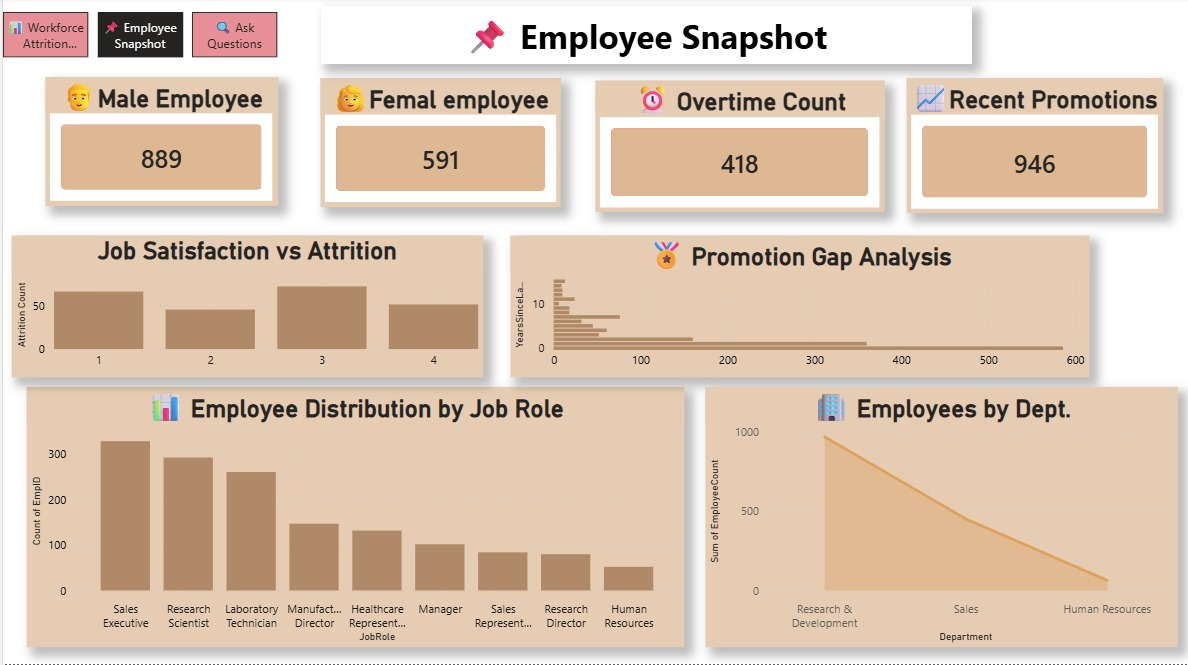

The dashboard page shown, as its layout file describes it:
{"tool":"powerbi","page":{"name":"📌 Employee Snapshot","canvas":[1280,720],"ordinal":1},"visuals":[{"type":"clusteredColumnChart","title":"📊 Employee Distribution by Job Role","fields":{"Y":["CountNonNull(Sheet1.EmpID)"],"Category":["Sheet1.JobRole"]},"box":[25.6,420.9,709.6,280.6],"z":0},{"type":"cardVisual","title":"👨Male Employee","fields":{"Data":["Sheet1.Male Employees"]},"box":[45.9,86.3,250.9,139],"z":1000},{"type":"cardVisual","title":"👩Femal employee","fields":{"Data":["Sheet1.Female Employees"]},"box":[342.7,87.7,259,139],"z":2000},{"type":"cardVisual","title":"⏰ Overtime Count","fields":{"Data":["Sheet1.Overtime Employees1"]},"box":[639.5,90.4,311.6,141.7],"z":3000},{"type":"columnChart","title":"Job Satisfaction vs Attrition","fields":{"Y":["Sheet1.Attrition Count"],"Category":["Sheet1.JobSatisfaction"]},"box":[9.4,257.7,508.6,152.4],"z":5000},{"type":"clusteredBarChart","title":"🏅 Promotion Gap Analysis","fields":{"Category":["Sheet1.YearsSinceLastPromotion"],"Y":["CountNonNull(Sheet1.EmpID)"]},"box":[547.7,257.7,624.6,152.4],"z":6000},{"type":"pageNavigator","box":[0,16.2,296.8,49.9],"z":7000},{"type":"shape","box":[342.7,9.4,702.9,62.1],"z":8000},{"type":"cardVisual","title":"📈Recent Promotions","fields":{"Data":["Sheet1.Recent Promotions"]},"box":[975.4,87.7,276.6,145.7],"z":9000},{"type":"stackedAreaChart","title":"🏢 Employees by Dept.","fields":{"Category":["Sheet1.Department"],"Y":["Sum(Sheet1.EmployeeCount)"]},"box":[758.2,420.9,510,280.6],"z":10000}]}

Visuals, with their boxes in screenshot pixels (x1, y1, x2, y2), scaled from the page's 1280x720 canvas onto the 1188x665 screenshot:
"📊 Employee Distribution by Job Role" clusteredColumnChart: [24, 389, 682, 648]
"👨Male Employee" cardVisual: [43, 80, 275, 208]
"👩Femal employee" cardVisual: [318, 81, 558, 209]
"⏰ Overtime Count" cardVisual: [594, 83, 883, 214]
"Job Satisfaction vs Attrition" columnChart: [9, 238, 481, 379]
"🏅 Promotion Gap Analysis" clusteredBarChart: [508, 238, 1088, 379]
pageNavigator: [0, 15, 275, 61]
shape: [318, 9, 970, 66]
"📈Recent Promotions" cardVisual: [905, 81, 1162, 216]
"🏢 Employees by Dept." stackedAreaChart: [704, 389, 1177, 648]
